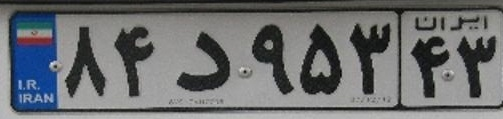character: (169, 20, 237, 105), (108, 18, 161, 103), (59, 19, 112, 103), (295, 15, 345, 102), (346, 16, 395, 100), (248, 17, 299, 97), (452, 31, 501, 101), (405, 32, 452, 103)
